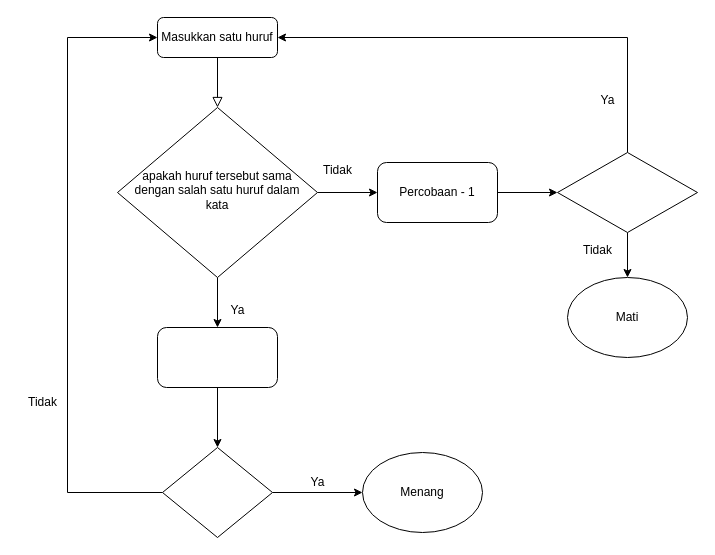
Image size: 715x555. Some labels were removed from this diagram. Each missing label, with the centre of its shape:
"Apakah masih ada percobaan" goes at [627,192].
"Apakah semua kata terreveal" goes at [217,492].
"Reveal salah satu huruf dalam kata" goes at [217,357].
